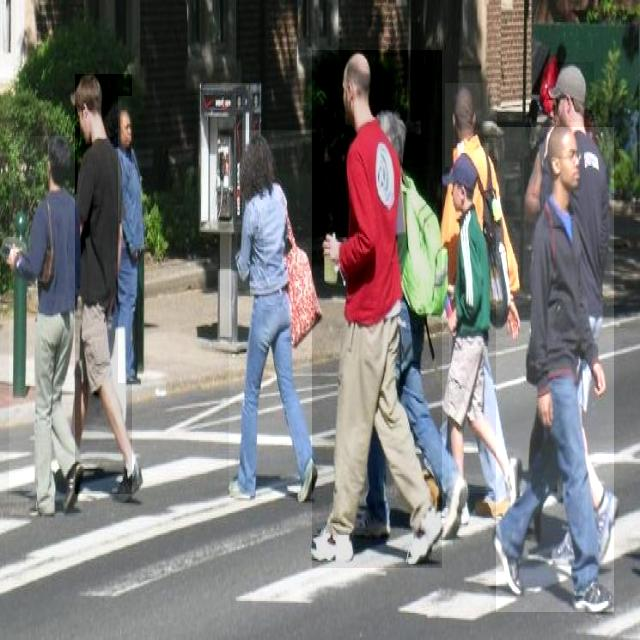with scooter: (312, 50, 442, 568), (496, 127, 614, 612), (229, 130, 318, 499), (9, 136, 83, 515), (449, 156, 521, 494), (75, 74, 132, 494), (118, 96, 147, 383), (445, 84, 497, 168), (554, 62, 594, 122), (378, 105, 416, 153)
